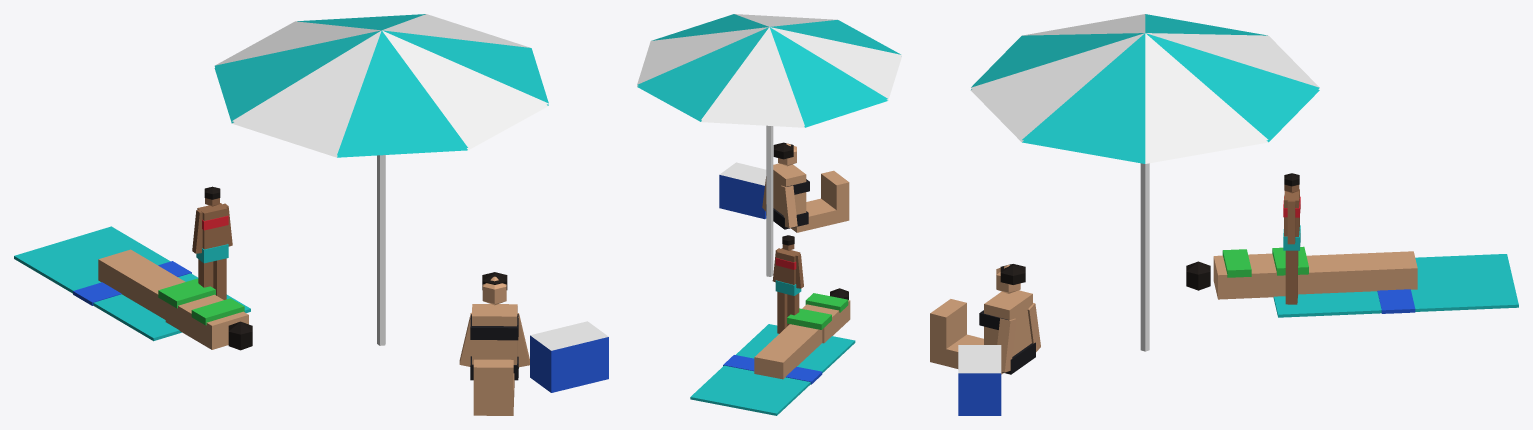
File: playa_grupo_5.obj
The picture shows the model from 3 angles, left to right: view 1: azimuth 30°, elevation 25°; view 2: azimuth 150°, elevation 25°; view 3: azimuth 270°, elevation 25°; orthographic projection. The views are drawn at different scales.
Visible parts, largest first — view 1: playa_grupo_5; view 2: playa_grupo_5; view 3: playa_grupo_5.
Boxes of the visible parts, <box> form: playa_grupo_5: <box>14,14,608,415</box>; playa_grupo_5: <box>637,14,901,415</box>; playa_grupo_5: <box>930,14,1518,415</box>.
Bounding box in the file's own units: 2.93 × 2.6 × 4.38.
